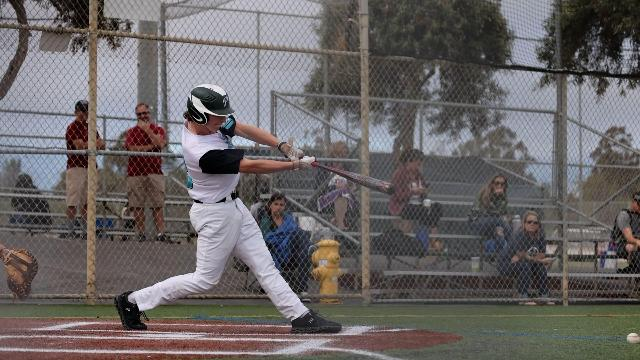baseball bat: (311, 160, 397, 196)
sports ball: (626, 334, 640, 346)
